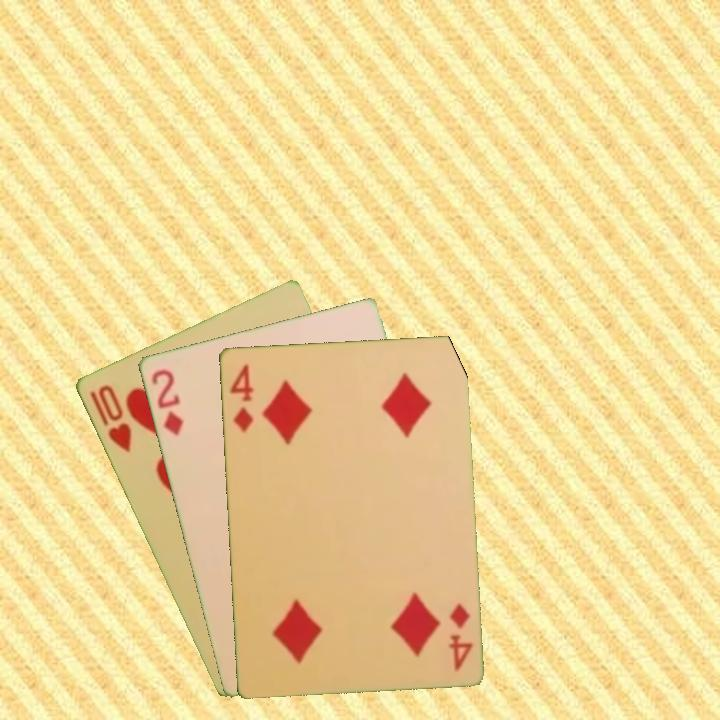10h: (86, 380, 134, 455)
2d: (147, 365, 187, 438)
4d: (444, 599, 476, 674), (225, 360, 256, 436)
